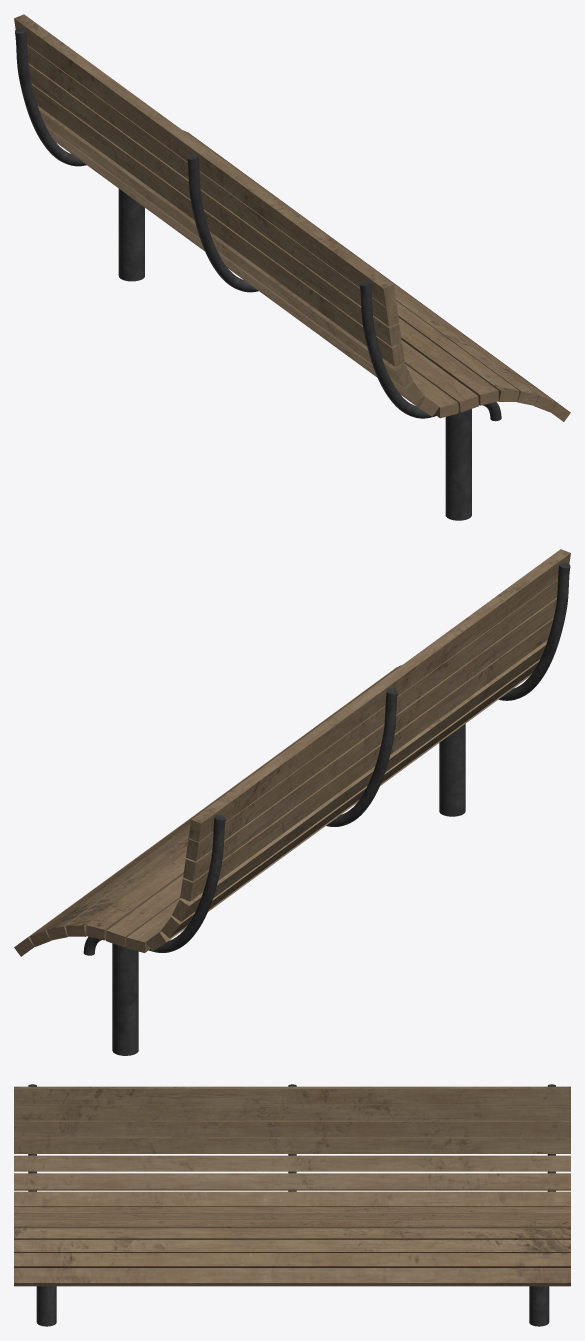
The model's file is BenchTxt1.fbx.
The picture shows the model from 3 angles, top to bottom: view 1: azimuth 30°, elevation 25°; view 2: azimuth 150°, elevation 25°; view 3: azimuth 270°, elevation 25°; orthographic projection. The views are drawn at different scales.
Visible parts, largest first — view 1: pCylinder39; view 2: pCylinder39; view 3: pCylinder39.
Part boxes in pixels (x1,y1,x2,y2): pCylinder39: (14,14,570,520); pCylinder39: (14,549,570,1055); pCylinder39: (14,1084,570,1326).
Bounding box in the file's own units: 1.98 × 2.55 × 6.39.
Materials: 2 (2 with a texture image).
